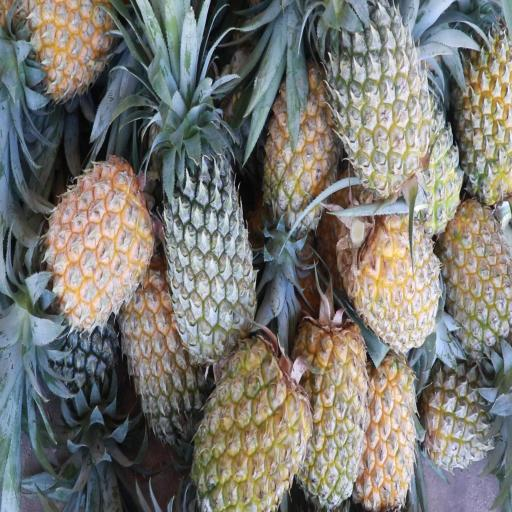------------------------------: (332, 6, 432, 180), (128, 270, 208, 430), (443, 204, 510, 348), (463, 34, 512, 202), (425, 364, 496, 469)
Pineapple - v8 v1: (193, 327, 309, 512), (48, 153, 150, 320), (348, 189, 441, 346), (296, 328, 366, 504), (270, 66, 345, 226), (359, 348, 413, 508), (25, 0, 115, 90)
